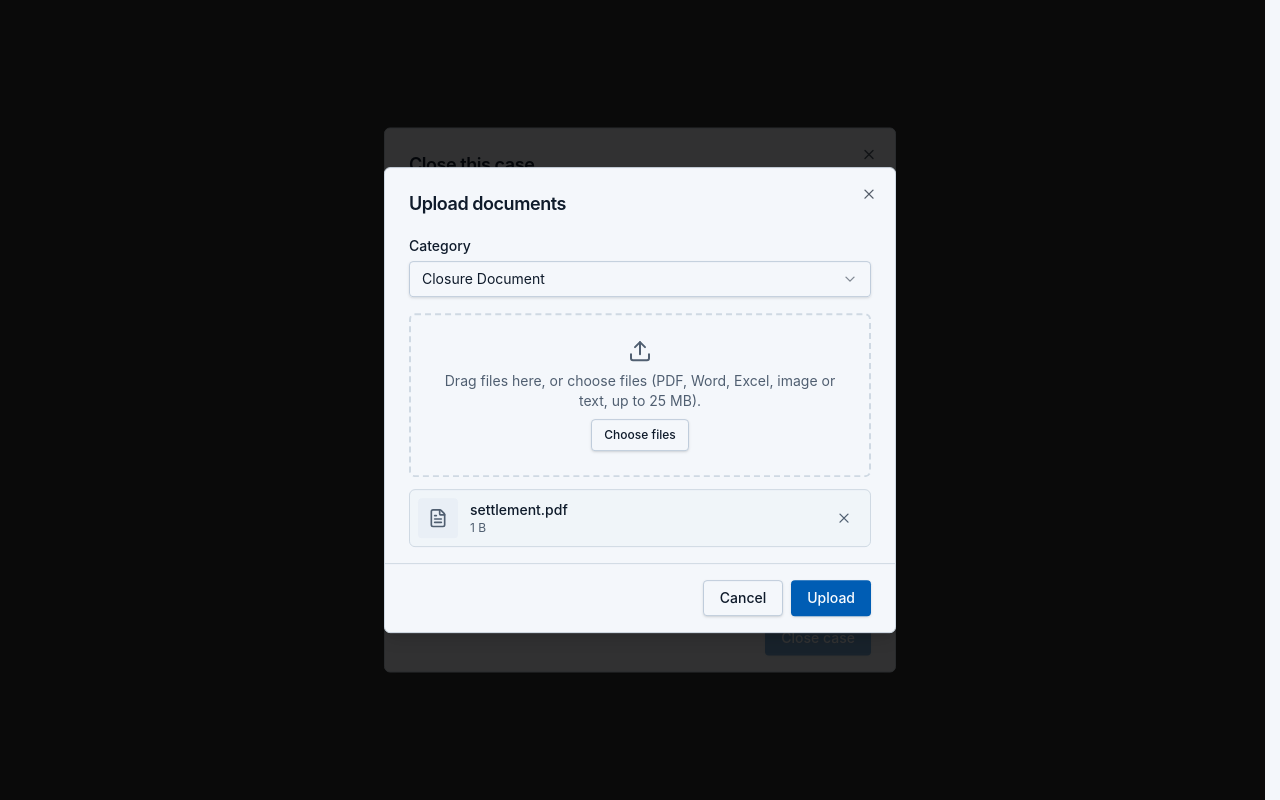
Test: useCloseCase › shows nothing from the case's Documents tab, and needs a document uploaded here before it can submit
The image size is (1280, 800).
Earlier steps of the test are not shown.
Step 1. Click the button "Upload" → (831,598), box left=791, top=580, right=871, bottom=616
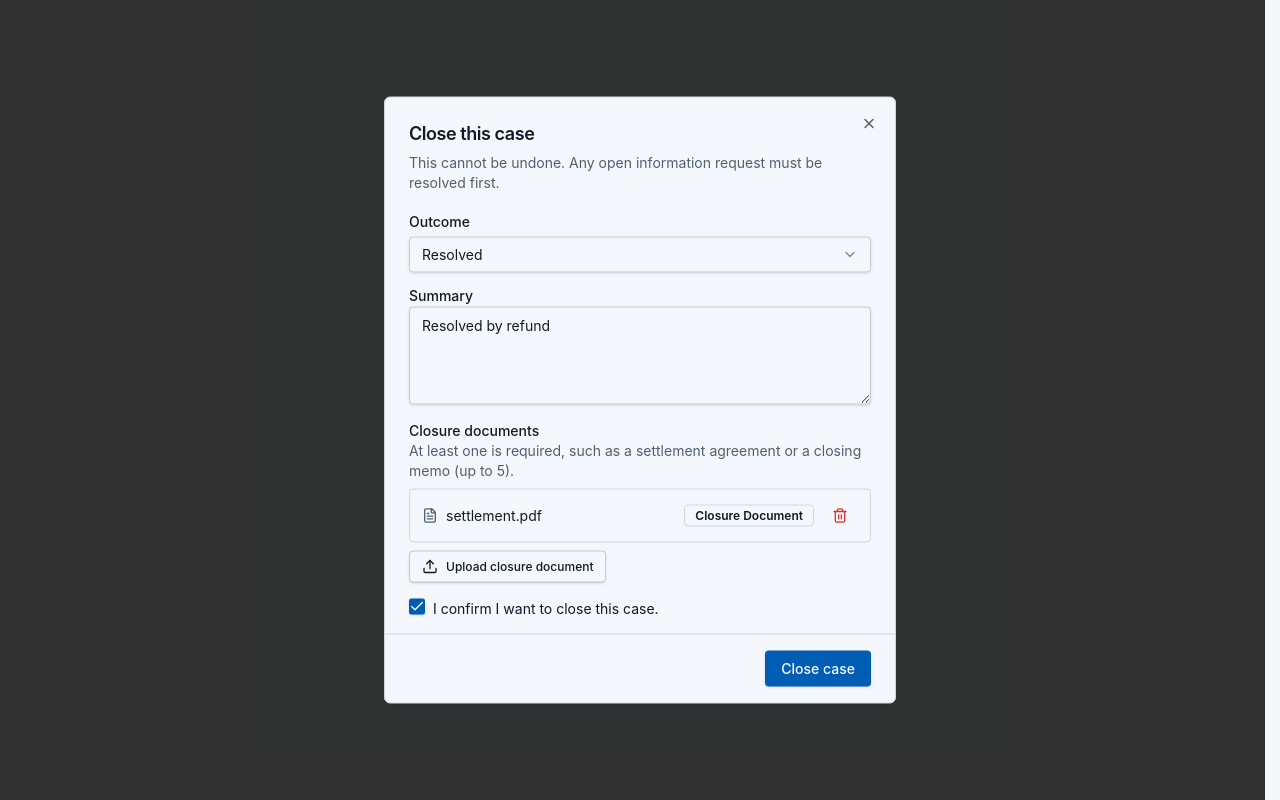
Expected: the text "settlement.pdf" is shown, left=446, top=506, right=542, bottom=523
Result: the button "Close case" is enabled at left=765, top=650, right=871, bottom=686
